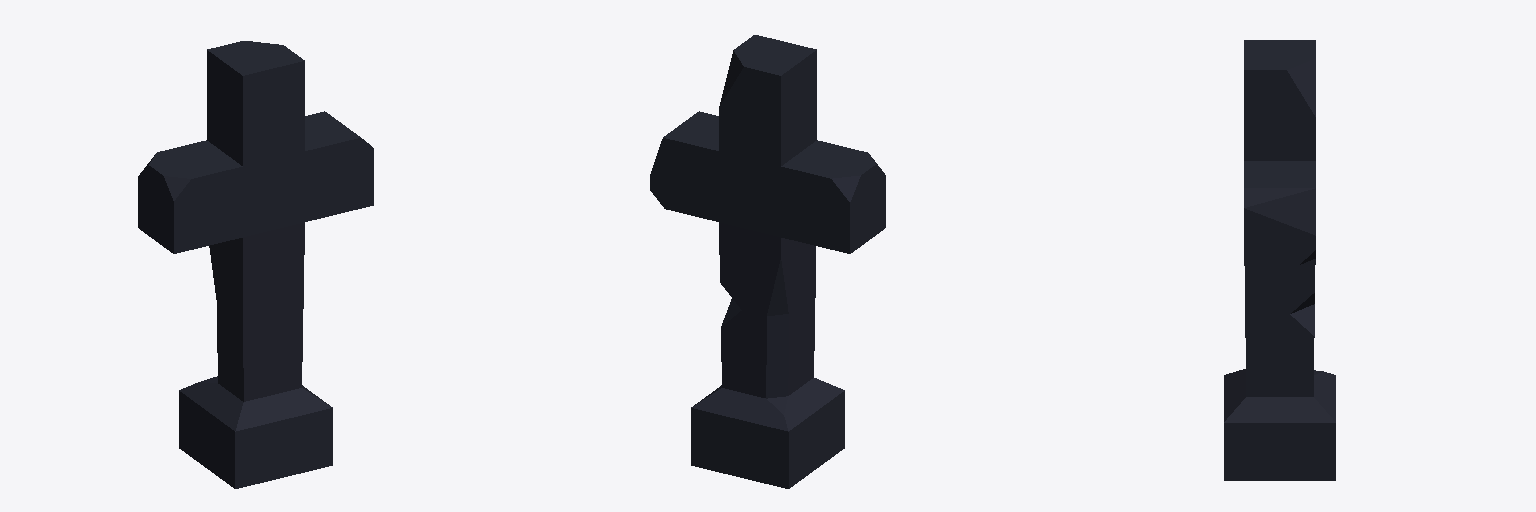
The model's file is CrossGrave2.obj.
The picture shows the model from 3 angles: view 1: azimuth 30°, elevation 25°; view 2: azimuth 150°, elevation 25°; view 3: azimuth 270°, elevation 25°; orthographic projection.
Visible parts, largest first — view 1: Gravestone.014; view 2: Gravestone.014; view 3: Gravestone.014.
Part boxes in pixels (x1,y1,x2,y2): Gravestone.014: (138, 41, 373, 488); Gravestone.014: (650, 35, 885, 488); Gravestone.014: (1224, 40, 1335, 480).
Size of the model in its own units: 1.65 by 3.16 by 0.8062.